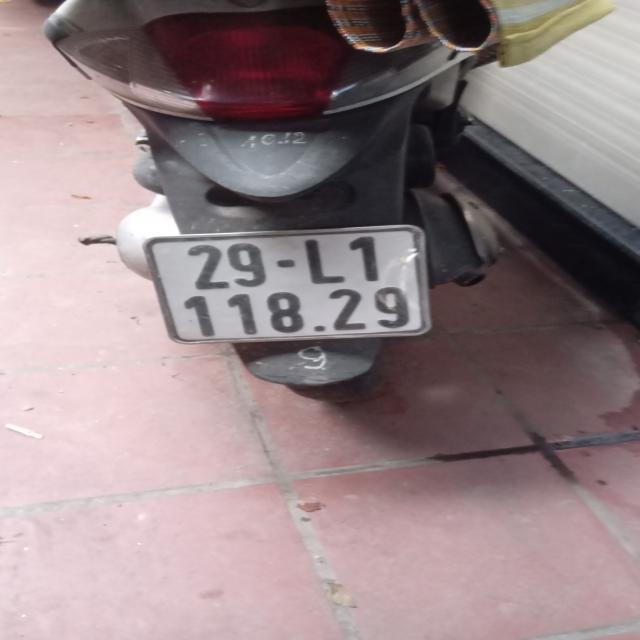License: (143, 224, 432, 344)
